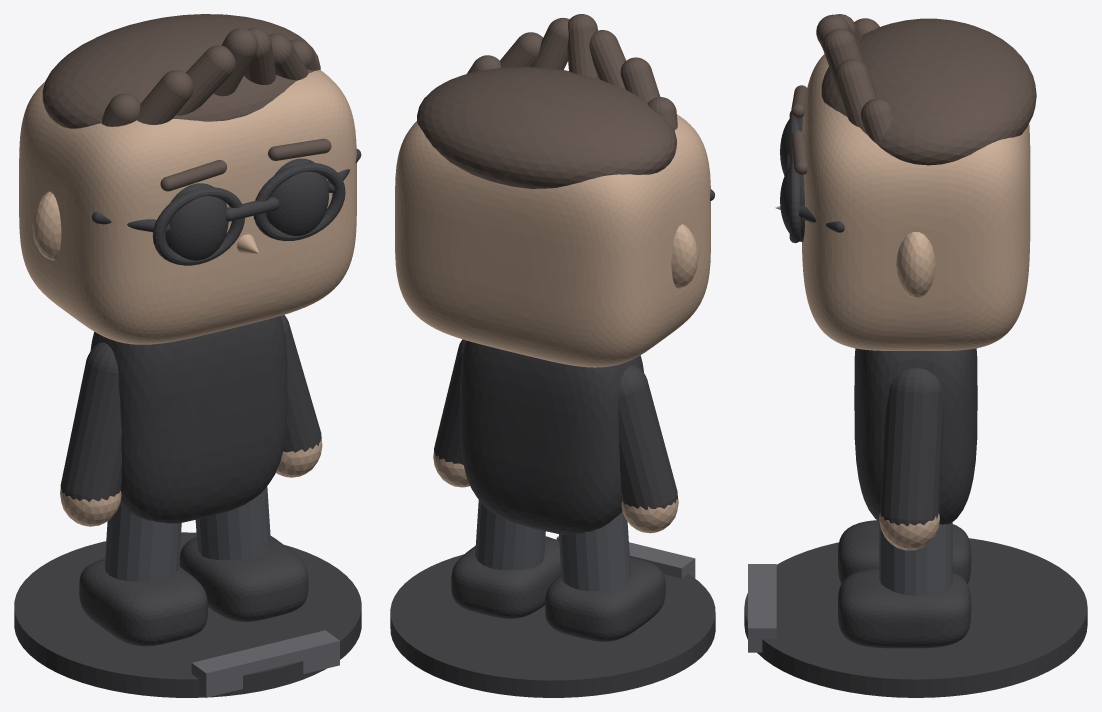
Rendered from ray_funko_v8.glb.
The picture shows the model from 3 angles, left to right: view 1: azimuth 30°, elevation 25°; view 2: azimuth 150°, elevation 25°; view 3: azimuth 270°, elevation 25°; orthographic projection. The views are drawn at different scales.
Visible parts, largest first — view 1: head, body, base, hair, shoes, arms, hair_tousled, legs, glasses, nameplate, eye_l, eye_r (+2 smaller); view 2: head, body, base, hair, shoes, arms, legs, hair_tousled, ears, nameplate; view 3: head, base, hair, body, shoes, arms, hair_tousled, legs, nameplate, ears, glasses, brows (+1 smaller).
Boxes of the visible parts, left/top/right/bottom form: head: left=19, top=70, right=356, bottom=344; body: left=90, top=316, right=287, bottom=523; base: left=14, top=532, right=361, bottom=697; hair: left=42, top=14, right=320, bottom=128; shoes: left=79, top=536, right=308, bottom=646; arms: left=60, top=315, right=322, bottom=526; hair_tousled: left=102, top=27, right=318, bottom=126; legs: left=104, top=486, right=271, bottom=581; glasses: left=92, top=149, right=361, bottom=265; nameplate: left=191, top=630, right=339, bottom=697; eye_l: left=165, top=183, right=228, bottom=260; eye_r: left=266, top=158, right=328, bottom=235; head: left=395, top=114, right=710, bottom=367; body: left=460, top=340, right=643, bottom=534; base: left=390, top=554, right=715, bottom=697; hair: left=417, top=67, right=676, bottom=188; shoes: left=451, top=536, right=665, bottom=641; arms: left=433, top=339, right=678, bottom=533; legs: left=475, top=500, right=630, bottom=591; hair_tousled: left=467, top=14, right=677, bottom=129; ears: left=671, top=224, right=698, bottom=288; nameplate: left=556, top=536, right=695, bottom=578; head: left=802, top=54, right=1030, bottom=350; base: left=744, top=538, right=1087, bottom=697; hair: left=821, top=18, right=1036, bottom=165; body: left=854, top=348, right=977, bottom=524; shoes: left=838, top=520, right=971, bottom=648; arms: left=879, top=368, right=943, bottom=550; hair_tousled: left=816, top=14, right=893, bottom=143; legs: left=879, top=522, right=952, bottom=595; nameplate: left=748, top=564, right=776, bottom=652; ears: left=896, top=232, right=935, bottom=297; glasses: left=785, top=111, right=844, bottom=243; brows: left=791, top=85, right=807, bottom=174.
Size of the model in its own units: 55 by 107 by 54.
